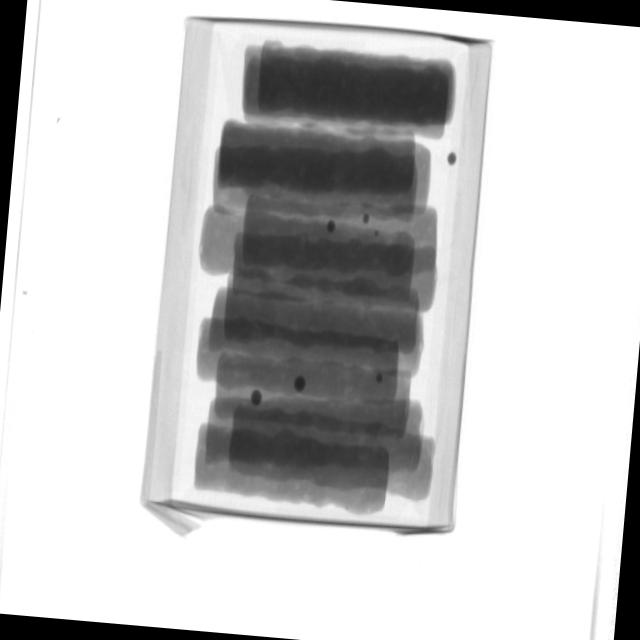ym: (295, 376, 308, 394), (251, 388, 263, 406), (446, 153, 457, 166), (327, 220, 337, 233), (377, 373, 386, 383), (363, 214, 371, 224), (374, 228, 380, 239)
